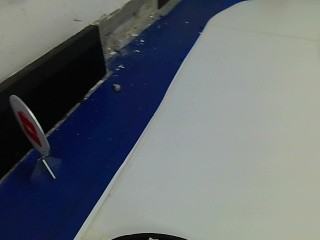company: (7, 91, 51, 155)
